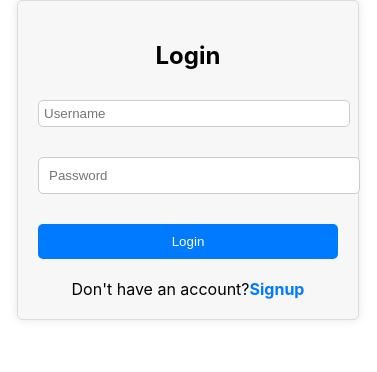
login_component › should_show_an_error_message_when_attempting_to_login_with_empty_fields
Click the button "Login" at (188, 241), box [38,224,338,259]
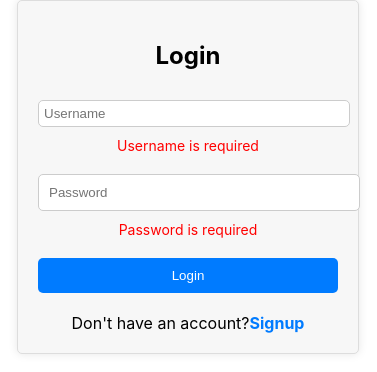
Expected: the text "Username is required" is shown, [117,137,259,154]
Expected: the text "Password is required" is shown, [119,221,257,238]
